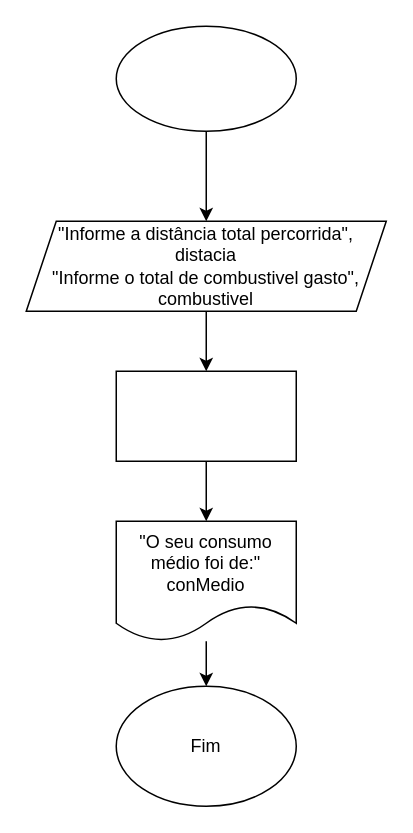
This 413x833 diagram has some shape labels left out. Each missing label, with the centre of its shape:
"ConMedio:= distancia / combustivel" goes at (205,415).
"Inicio" goes at (205,78).
